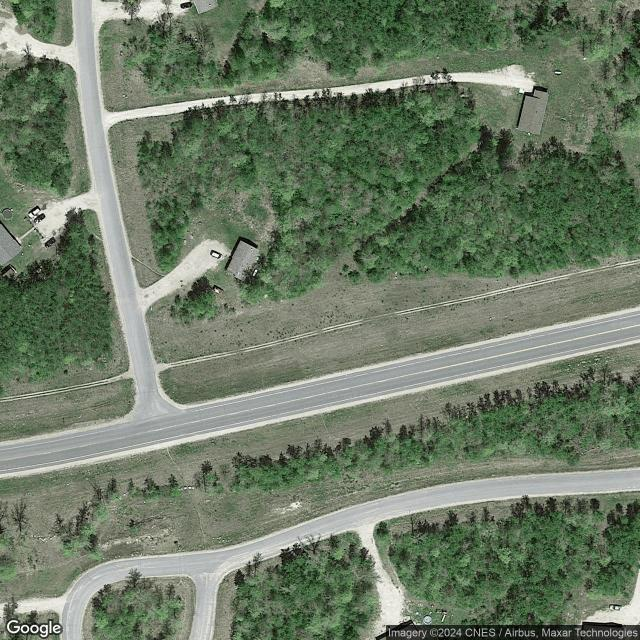Propane: (251, 267, 259, 278), (554, 69, 563, 75)
